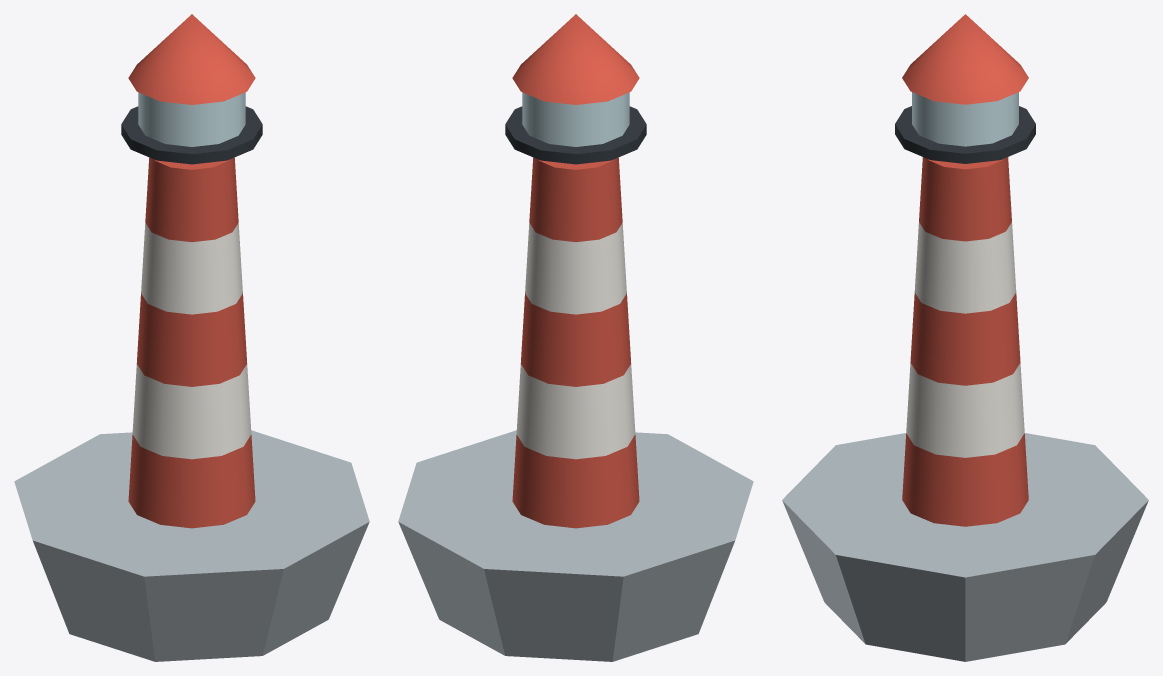
The model's file is m_lighthouse.gltf.
The picture shows the model from 3 angles, left to right: view 1: azimuth 30°, elevation 25°; view 2: azimuth 150°, elevation 25°; view 3: azimuth 270°, elevation 25°; orthographic projection.
Visible parts, largest first — view 1: m_lighthouse; view 2: m_lighthouse; view 3: m_lighthouse.
Part boxes in pixels (x1,y1,x2,y2): m_lighthouse: [14, 14, 369, 661]; m_lighthouse: [398, 14, 753, 661]; m_lighthouse: [782, 14, 1148, 661].
Size of the model in its own units: 2.6 by 4.6 by 2.6.
1 material, 1 textured.
